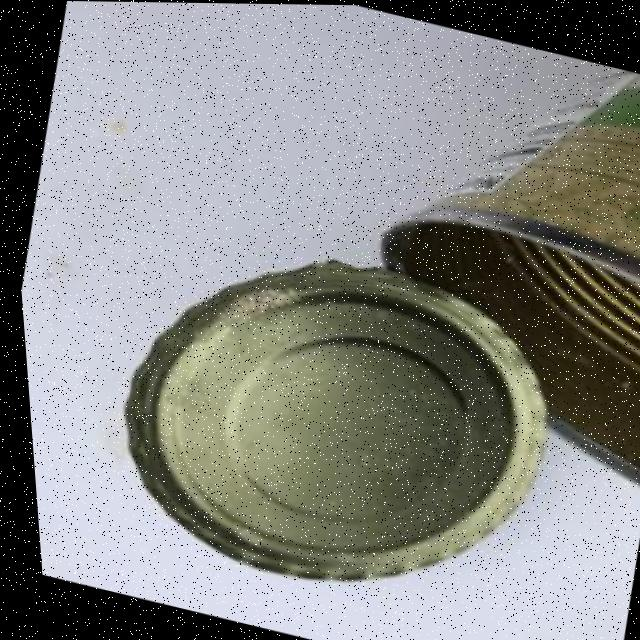metal: (50, 1, 640, 640)
